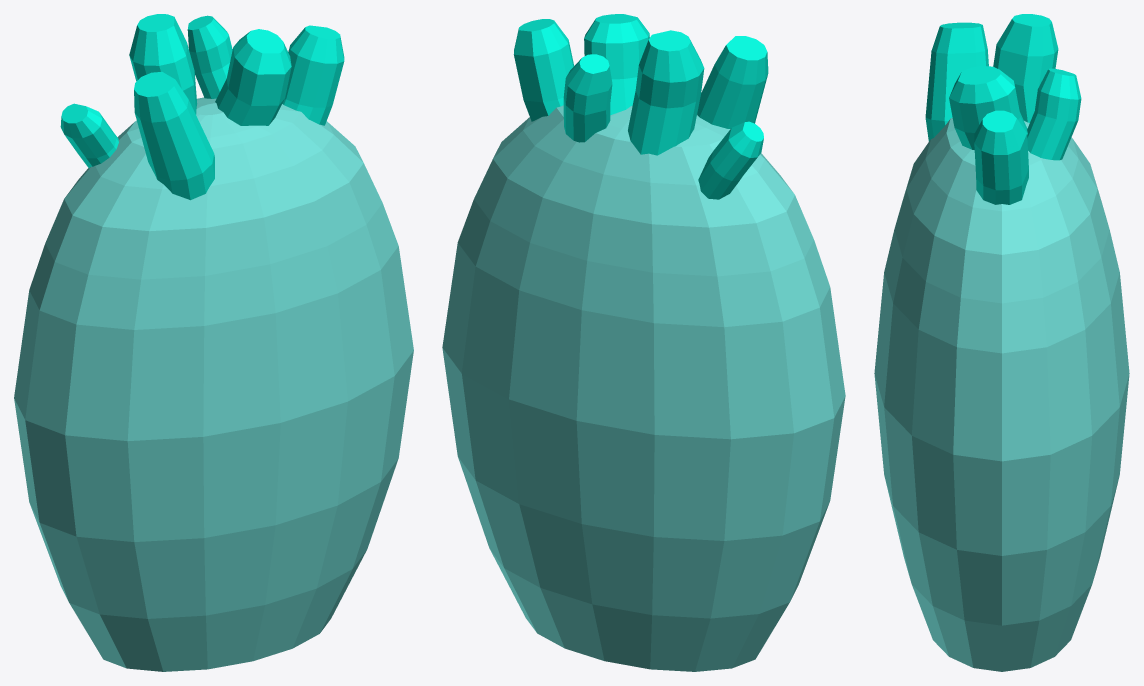
File: sleep thing.fbx
3 views of the same model, side by side, from view 1: azimuth 30°, elevation 25°; view 2: azimuth 150°, elevation 25°; view 3: azimuth 270°, elevation 25° (orthographic). The views are drawn at different scales.
Parts seen in each view (by area): view 1: Sphere.001; view 2: Sphere.001; view 3: Sphere.001.
Part boxes in pixels (x1,y1,x2,y2): Sphere.001: (14,14,413,671); Sphere.001: (442,14,845,671); Sphere.001: (874,14,1129,671).
Size of the model in its own units: 56.65 by 87.46 by 34.71.
